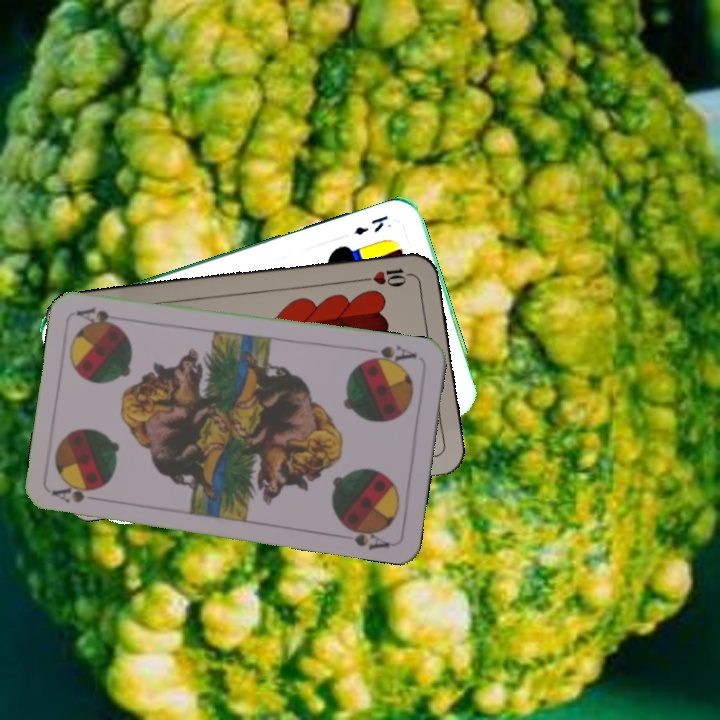EK: (350, 211, 391, 238)
H10: (356, 264, 415, 288)
SA: (361, 341, 419, 368), (48, 480, 108, 506)
